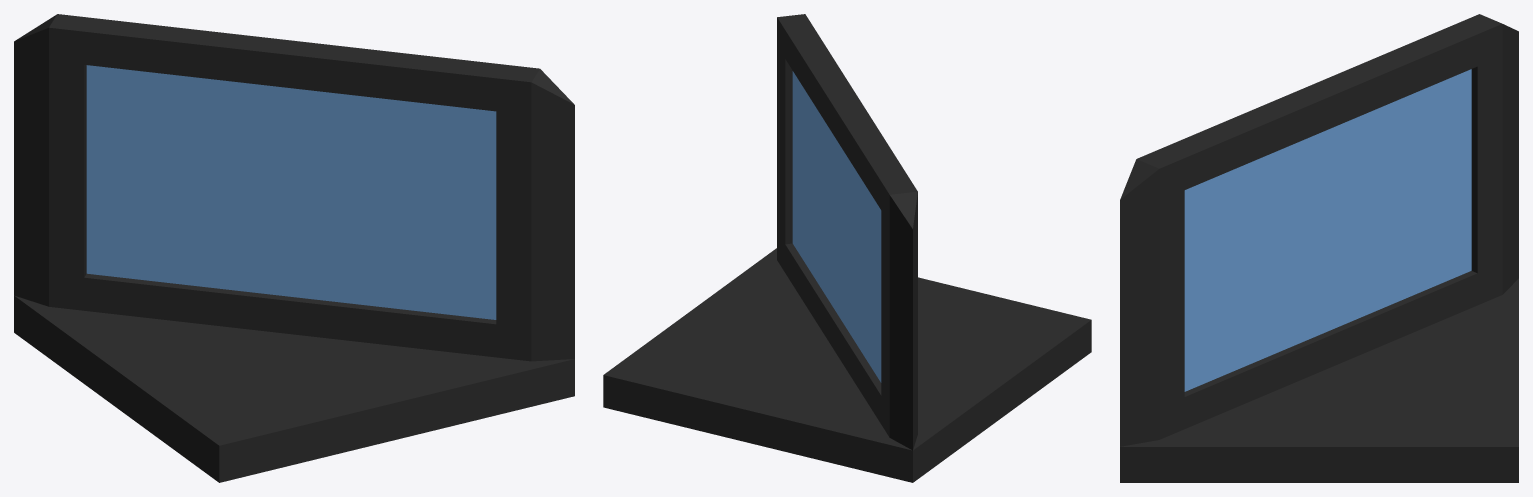
Rendered from DoubleSided.fbx.
3 renders of one model, left to right at view 1: azimuth 30°, elevation 25°; view 2: azimuth 150°, elevation 25°; view 3: azimuth 270°, elevation 25°, orthographic. The views are drawn at different scales.
Visible parts, largest first — view 1: DoubleSided; view 2: DoubleSided; view 3: DoubleSided.
Boxes of the visible parts, left/top/right/bottom form: DoubleSided: left=14, top=14, right=574, bottom=482; DoubleSided: left=603, top=14, right=1091, bottom=482; DoubleSided: left=1120, top=14, right=1518, bottom=482.
Size of the model in its own units: 200 by 170 by 200.
